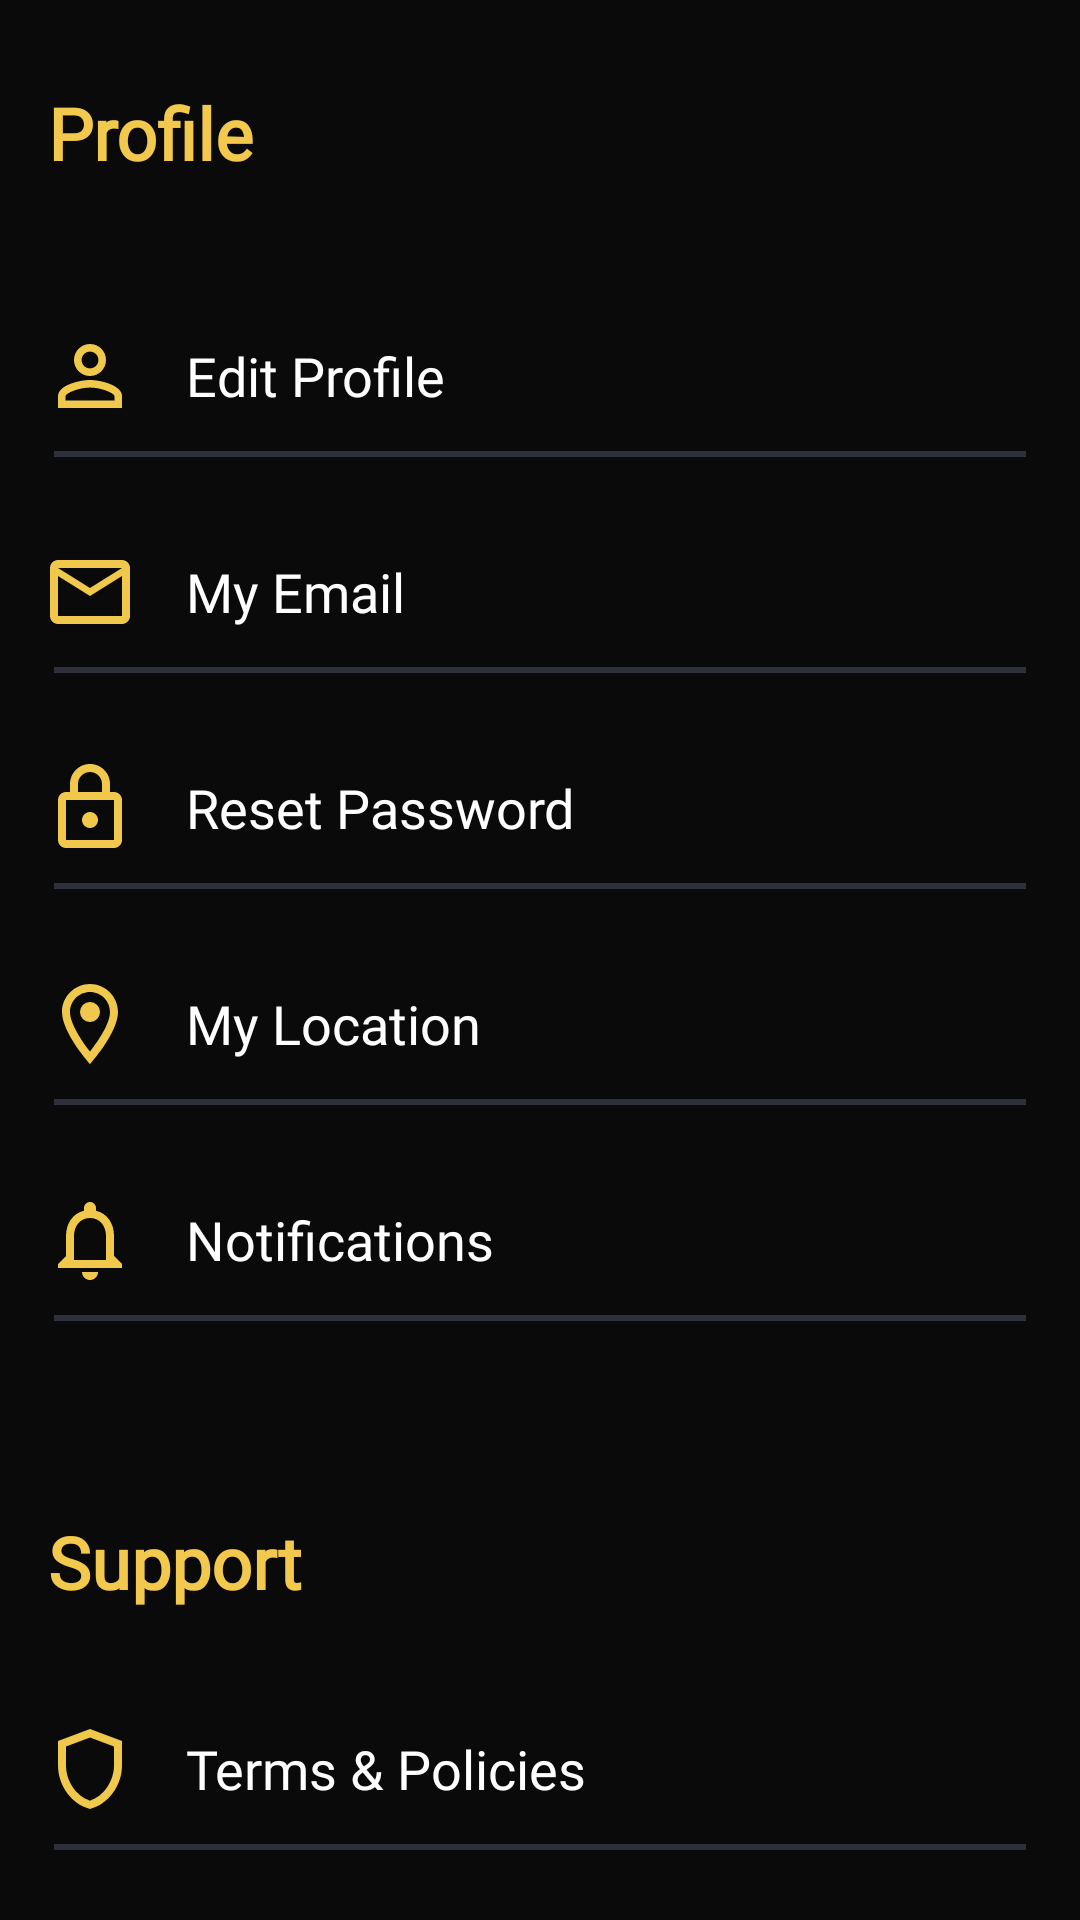

Screen size 1080px x 1920px. Icon name, then its center in pixels as point (x, y):
location on: point (90, 1024)
lock: point (90, 806)
person: point (90, 376)
shield: point (90, 1769)
